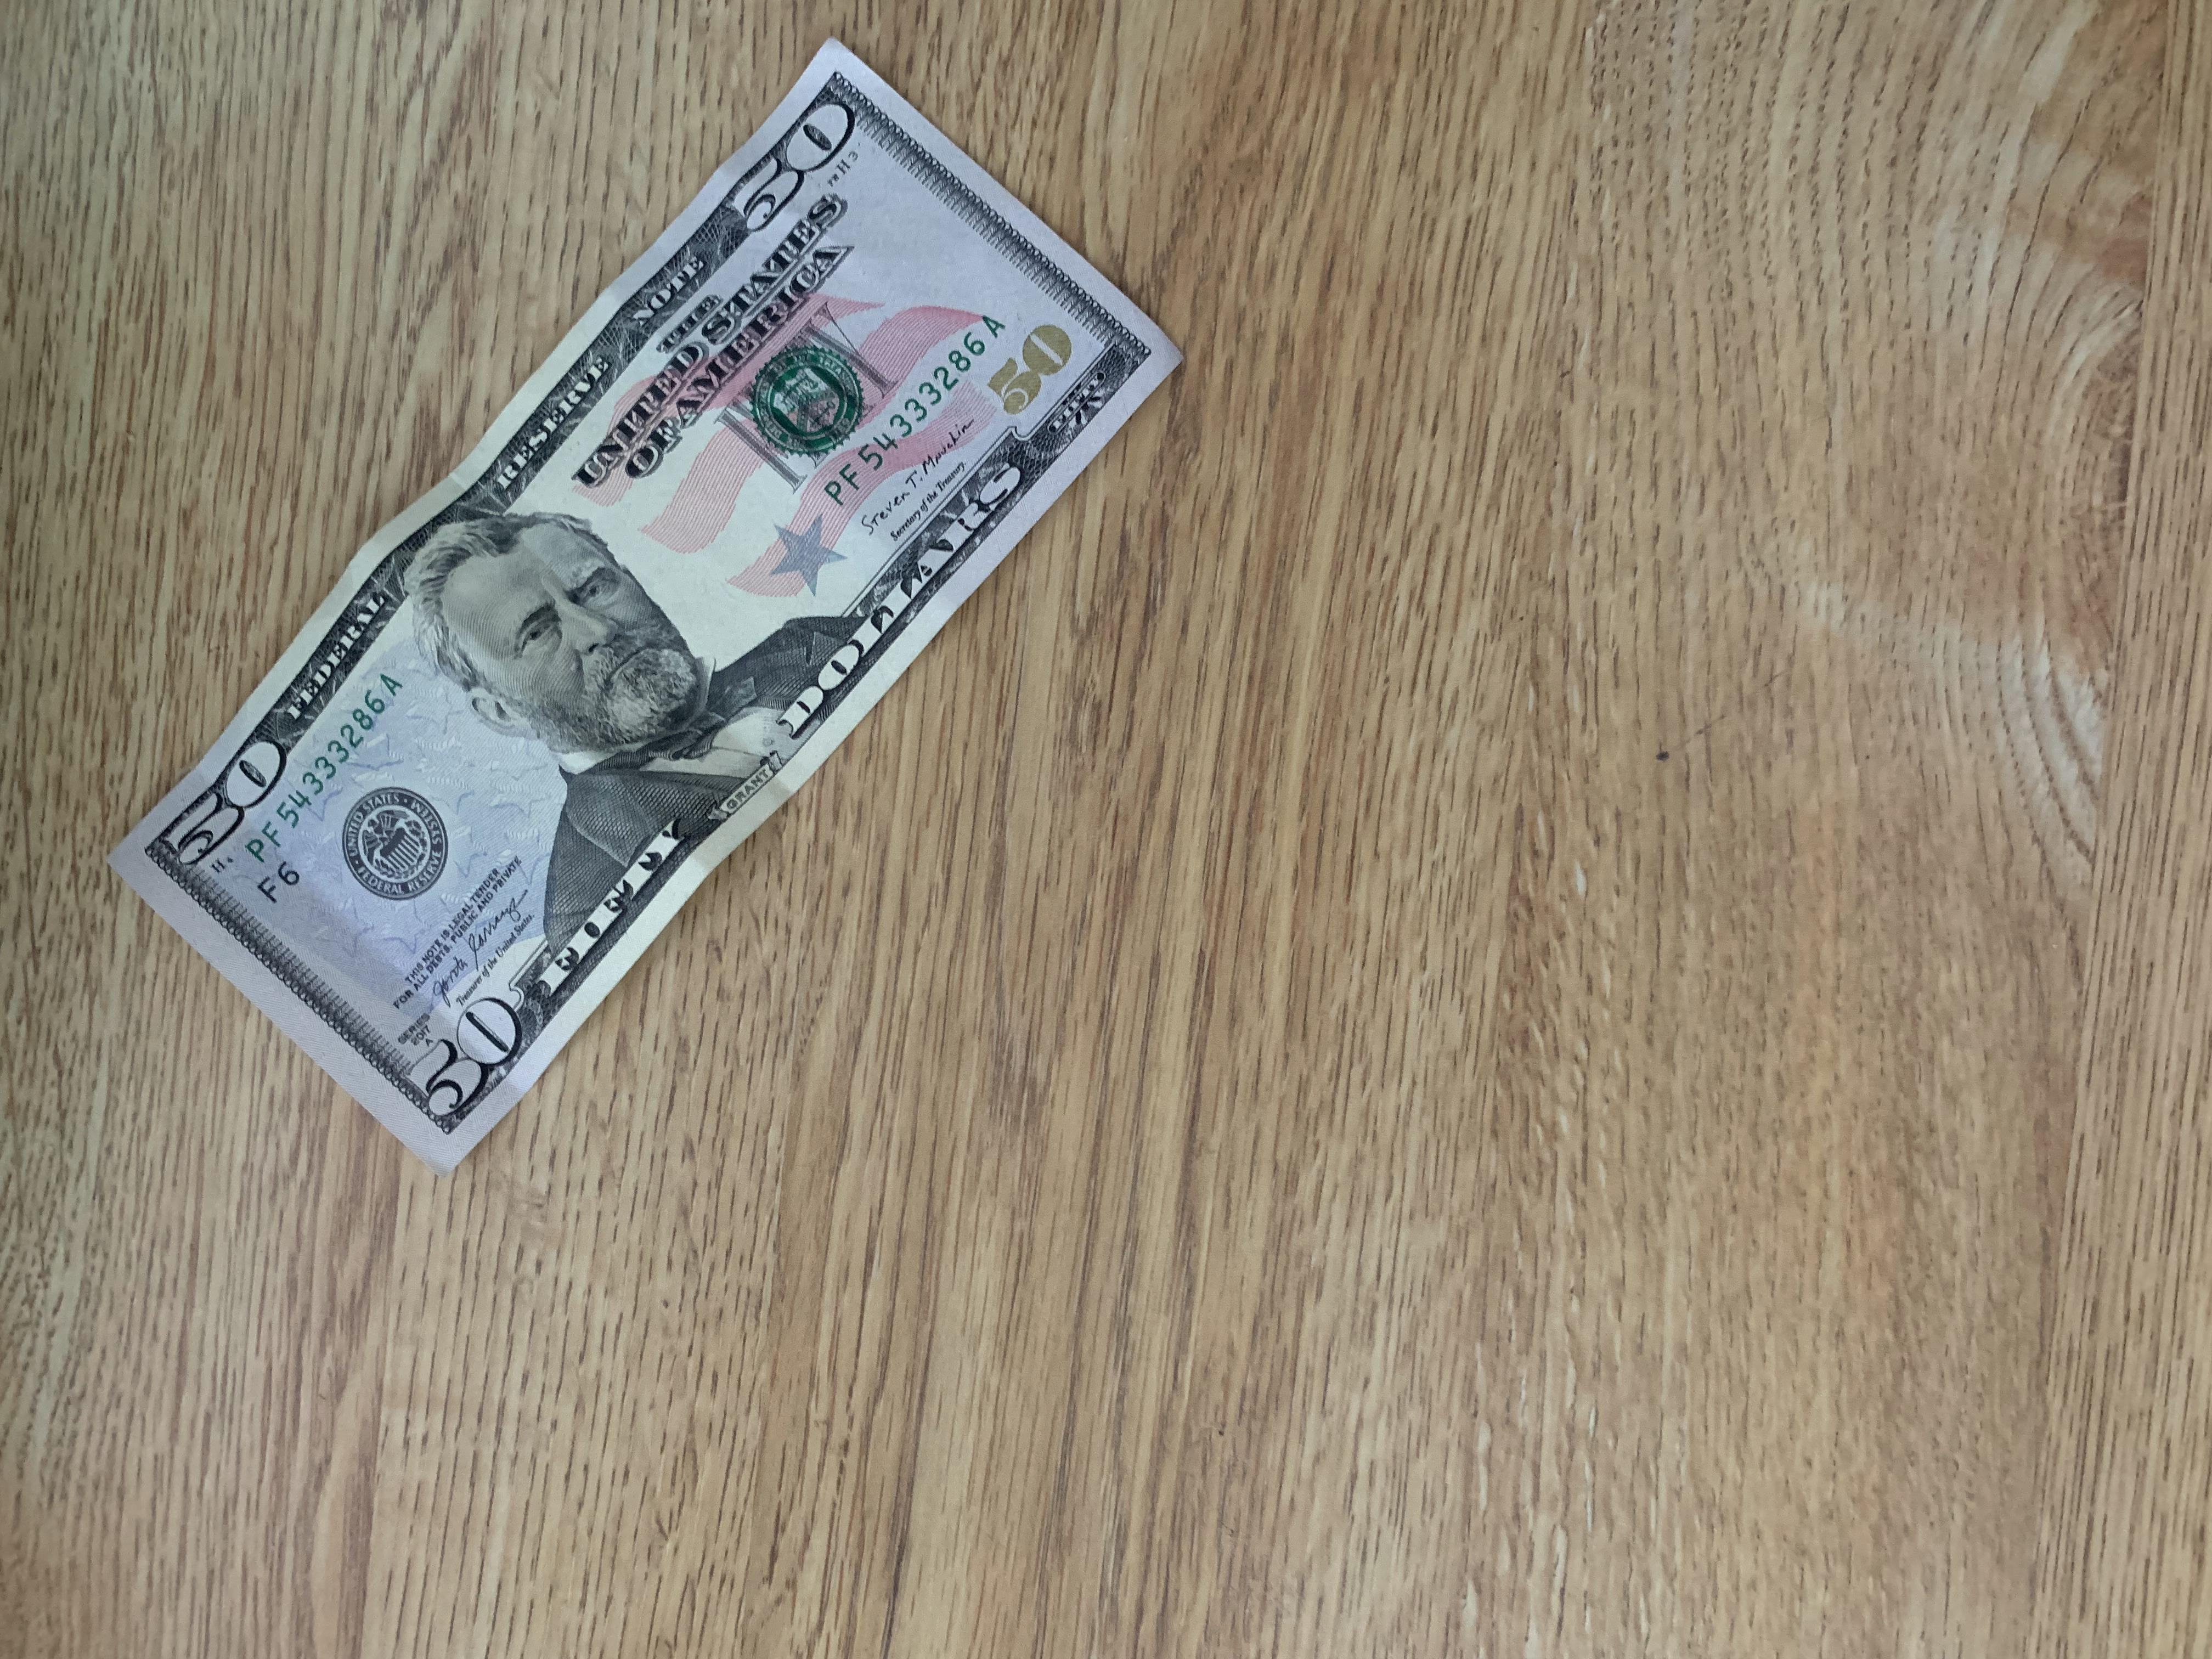FiftyBill: (108, 38, 1181, 1175)
